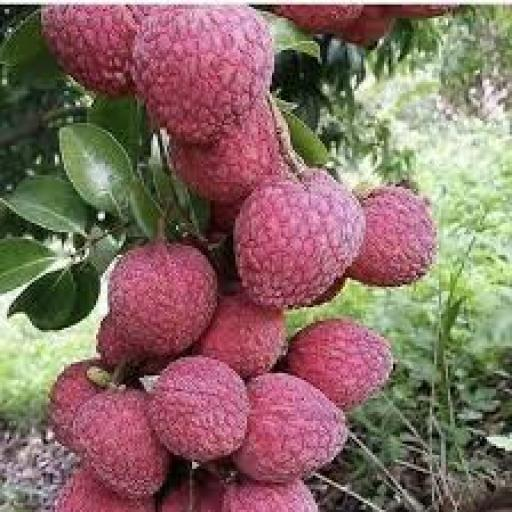lychee: (133, 5, 274, 143), (236, 171, 363, 309), (110, 242, 217, 357), (234, 374, 347, 482), (172, 101, 287, 204), (149, 355, 249, 461), (74, 390, 169, 498), (286, 319, 393, 409), (348, 187, 436, 286), (42, 5, 137, 95), (197, 294, 285, 377), (96, 315, 173, 375), (51, 360, 102, 450), (55, 469, 155, 511), (222, 481, 317, 511), (275, 5, 363, 34), (96, 315, 143, 366), (339, 5, 395, 45), (160, 478, 223, 511), (208, 203, 242, 234), (311, 276, 347, 304), (389, 5, 457, 18)
